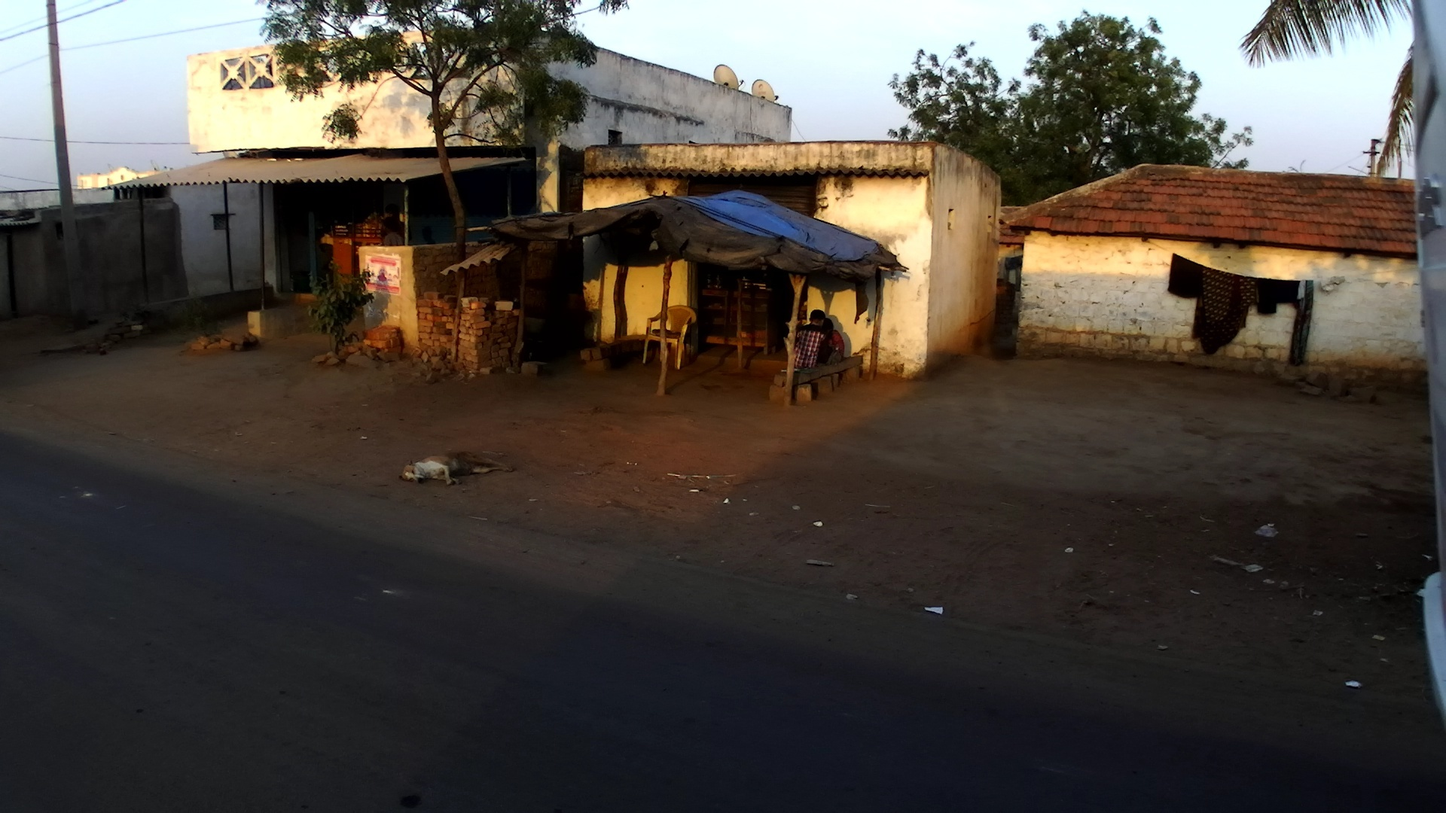animal: (398, 452, 514, 487)
bus: (1399, 1, 1446, 746)
person: (795, 306, 825, 376), (818, 317, 850, 367), (375, 216, 406, 259)
